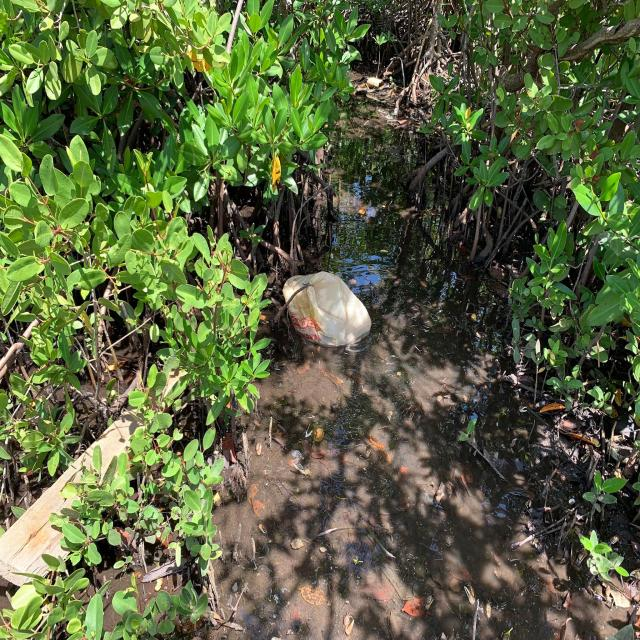litter: (283, 271, 372, 347)
